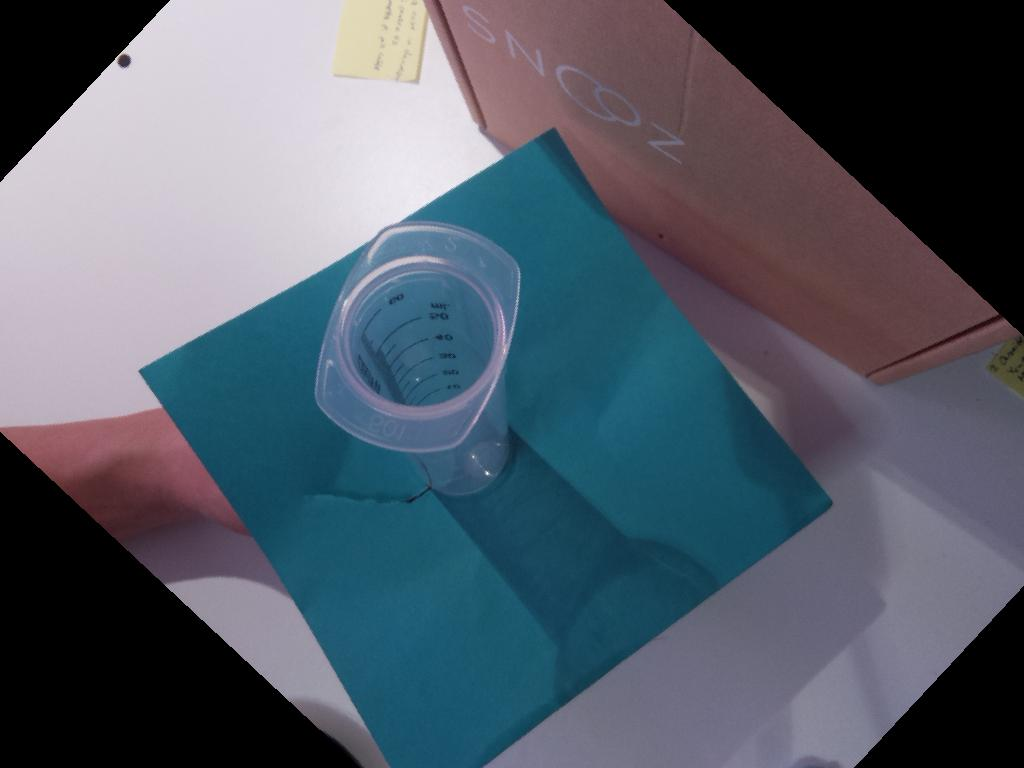clean: (314, 221, 524, 455)
